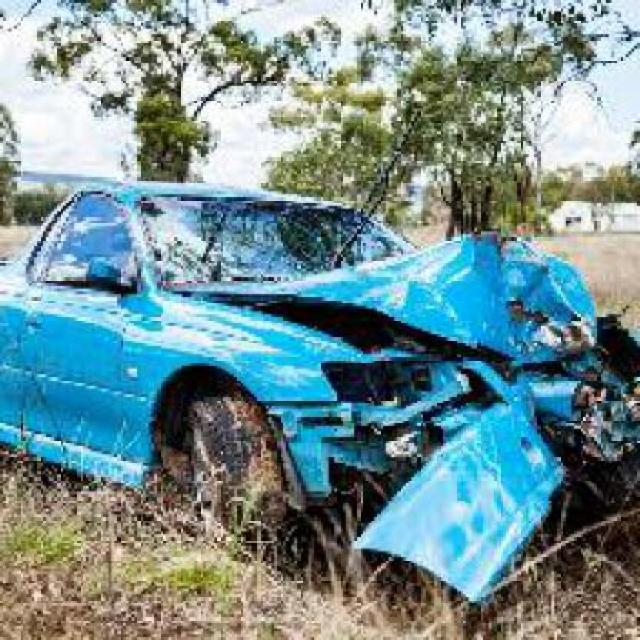damaged-front-bumper: (285, 400, 638, 546)
damaged-hood: (202, 234, 606, 362)
